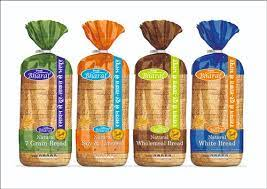bread: (66, 20, 130, 173), (12, 14, 74, 170), (191, 16, 251, 173), (126, 23, 185, 169)
